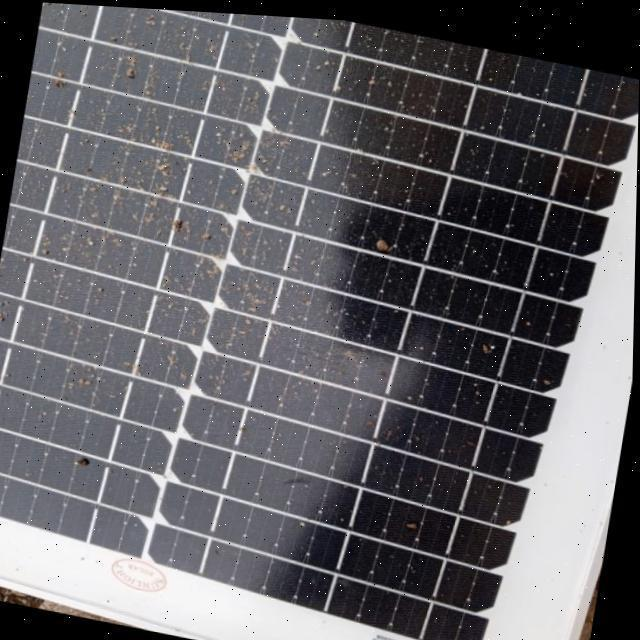Anomaly Solar Panel: (0, 0, 640, 640)
Surface Contaminant: (14, 5, 639, 640)
